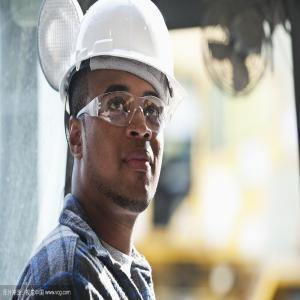white: (60, 2, 180, 216)
